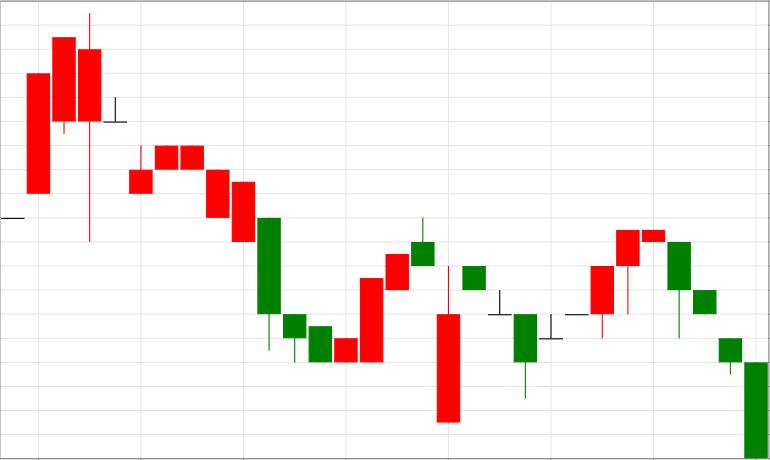hanging_man_fall: (514, 229, 639, 398)
